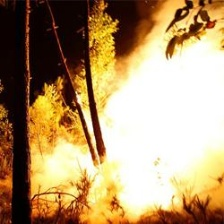fire: (102, 61, 224, 200)
